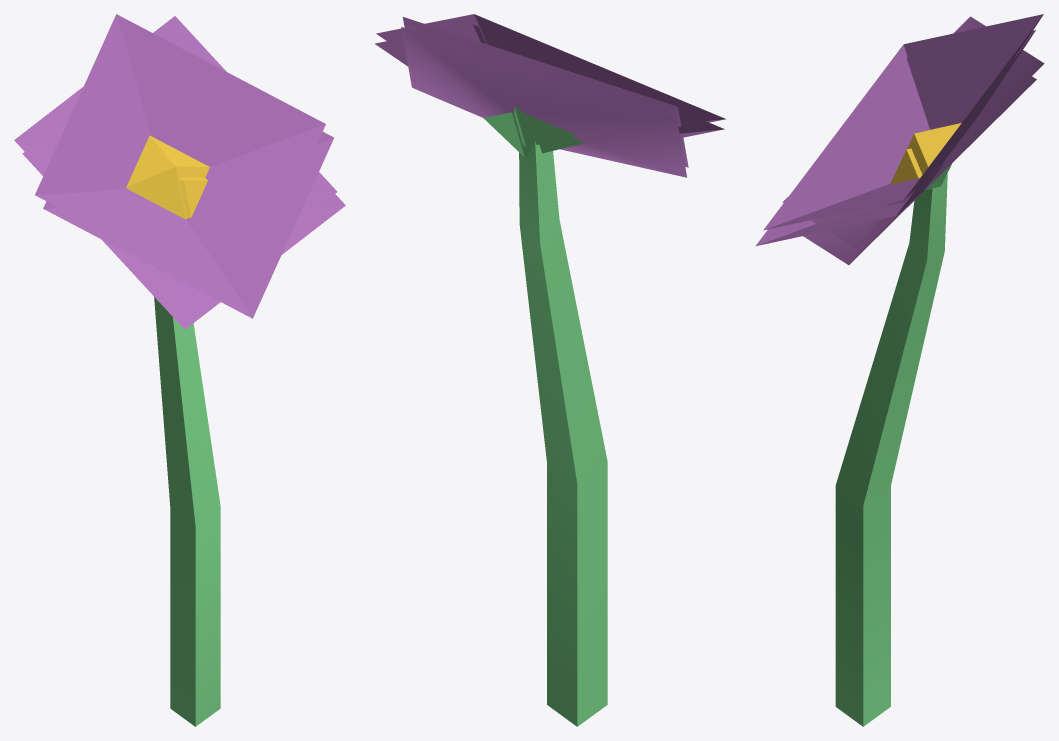
File: 10_cosmos.fbx
The picture shows the model from 3 angles, left to right: view 1: azimuth 30°, elevation 25°; view 2: azimuth 150°, elevation 25°; view 3: azimuth 270°, elevation 25°; orthographic projection. The views are drawn at different scales.
Visible parts, largest first — view 1: pCylinder2; view 2: pCylinder2; view 3: pCylinder2.
Part boxes in pixels (x1=…): pCylinder2: x1=14, y1=14, x2=345, y2=726; pCylinder2: x1=375, y1=14, x2=726, y2=726; pCylinder2: x1=755, y1=14, x2=1044, y2=726.
Size of the model in its own units: 1.17 by 2.42 by 0.9047.
